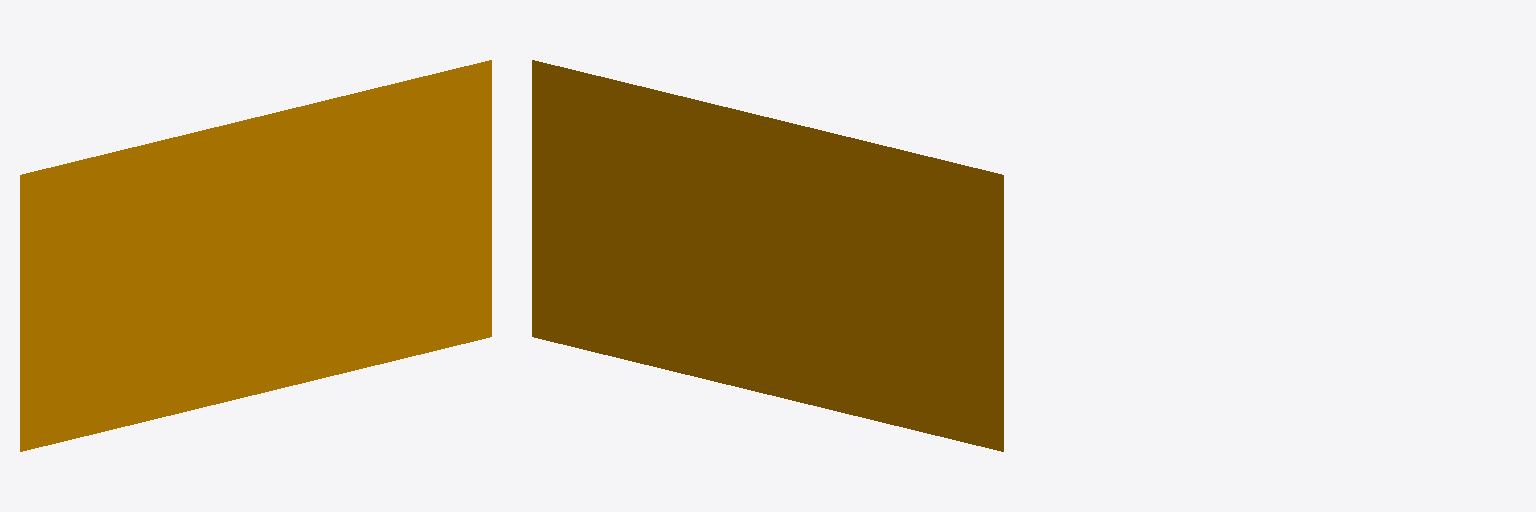
robot.urdf — logo:
<?xml version="1.0"?>
<robot name="logo">
  <link name="base_link">
    <visual>
      <origin xyz="0 0 0" rpy="0 0 0"/>
      <geometry>
        <mesh filename="logo.obj" scale="1 1 1"/>
      </geometry>
    </visual>

    <collision>
      <origin xyz="0 0 0" rpy="0 0 0"/>
      <geometry>
        <box size="0.02 1.7778 1.0"/>
      </geometry>
    </collision>

    <inertial>
      <origin xyz="0 0 0" rpy="0 0 0"/>
      <mass value="1.0"/>
      <inertia ixx="0.01" ixy="0.0" ixz="0.0"
               iyy="0.01" iyz="0.0"
               izz="0.01"/>
    </inertial>
  </link>
</robot>

--- Render facts (derived) ---
Views: 3 orthographic renders of the robot side by side, from view 1: azimuth 30°, elevation 25°; view 2: azimuth 150°, elevation 25°; view 3: azimuth 270°, elevation 25°.
Robot: logo — 1 links, 0 joints (none); root link base_link; default pose: all joints at 0.
Links seen in each view (by area): view 1: base_link; view 2: base_link; view 3: none.
Link boxes in pixels (x1=…): base_link: x1=20, y1=60, x2=491, y2=451; base_link: x1=532, y1=60, x2=1003, y2=451.
Size in the robot's own frame: 1.78 by 0 by 1 metres.
Meshes: 1 distinct files referenced, 1 mesh visuals loaded (1 OBJ).
